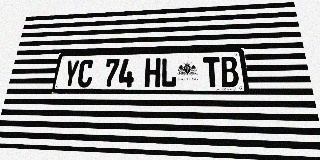4: (118, 59, 135, 87)
7: (102, 59, 120, 87)
B: (220, 56, 239, 87)
C: (76, 59, 94, 87)
H: (144, 58, 161, 87)
L: (161, 58, 177, 87)
T: (203, 57, 221, 87)
Y: (62, 60, 80, 87)
